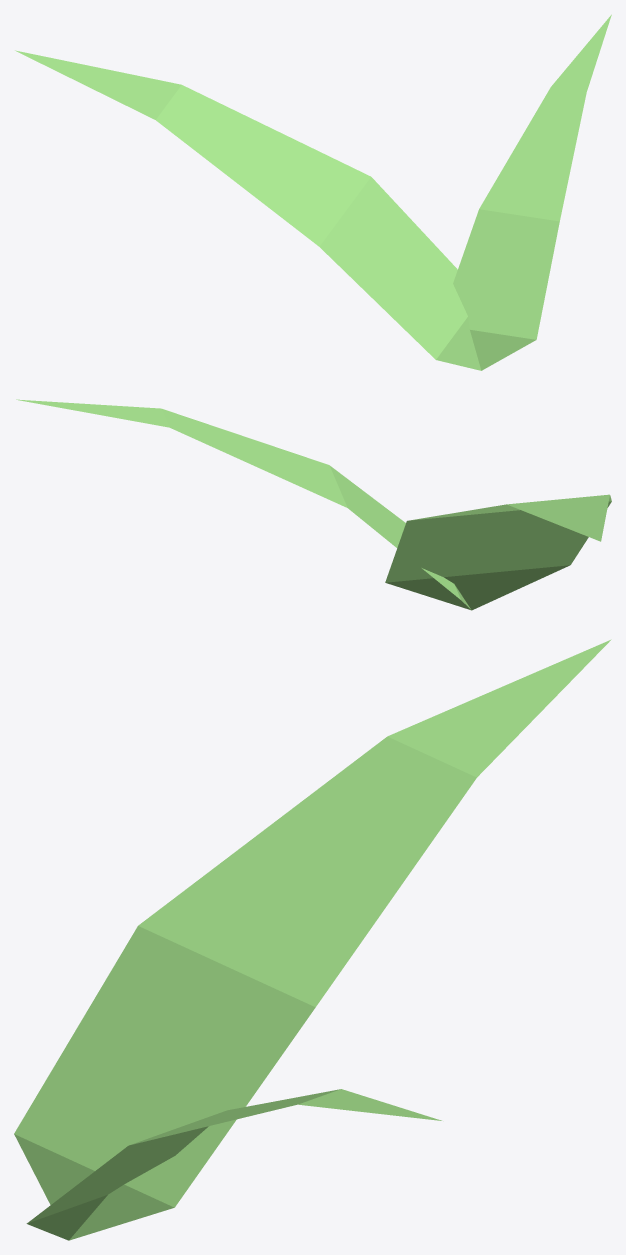
File: Plant_a_OneS_03.fbx
The picture shows the model from 3 angles, top to bottom: view 1: azimuth 30°, elevation 25°; view 2: azimuth 150°, elevation 25°; view 3: azimuth 270°, elevation 25°; orthographic projection. The views are drawn at different scales.
Parts seen in each view (by area): view 1: Plant_a_OneS_03; view 2: Plant_a_OneS_03; view 3: Plant_a_OneS_03.
Part boxes in pixels (box(x1,y1,x2,y2)): Plant_a_OneS_03: box(15, 14, 611, 370); Plant_a_OneS_03: box(16, 399, 611, 610); Plant_a_OneS_03: box(14, 639, 611, 1240).
Bounding box in the file's own units: 106 × 48.31 × 67.11.
